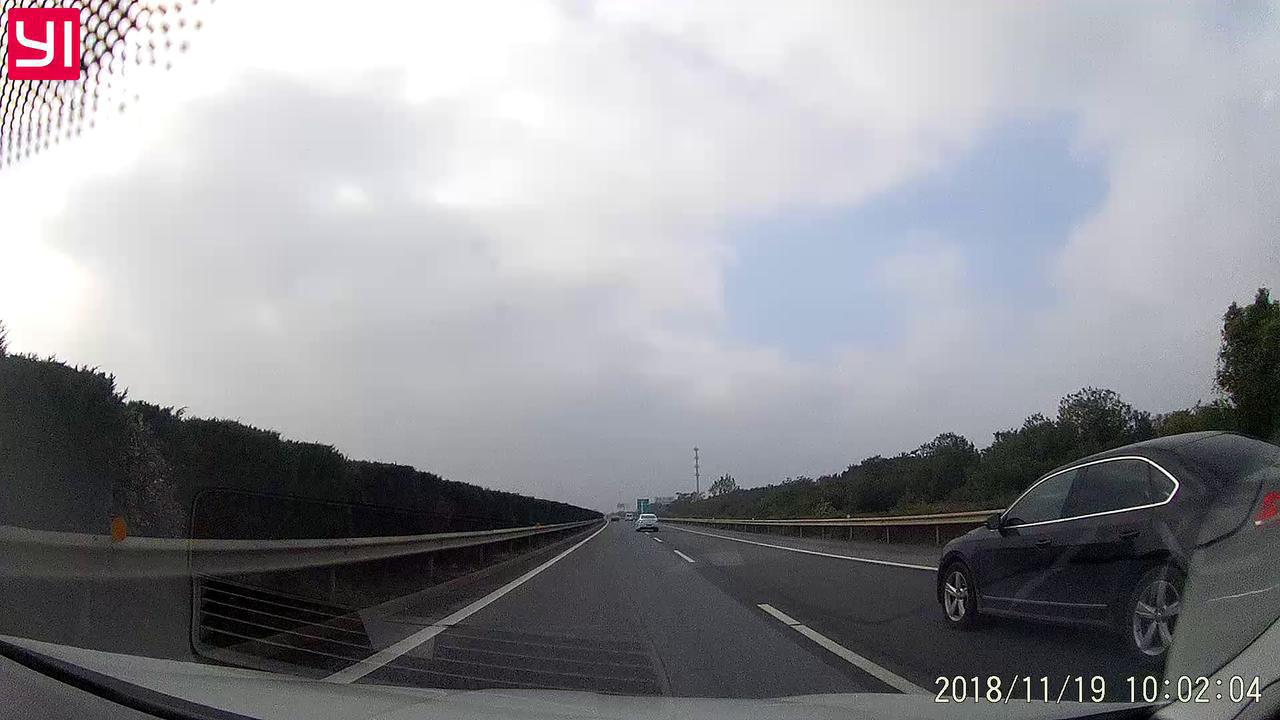car: (897, 455, 1243, 693)
